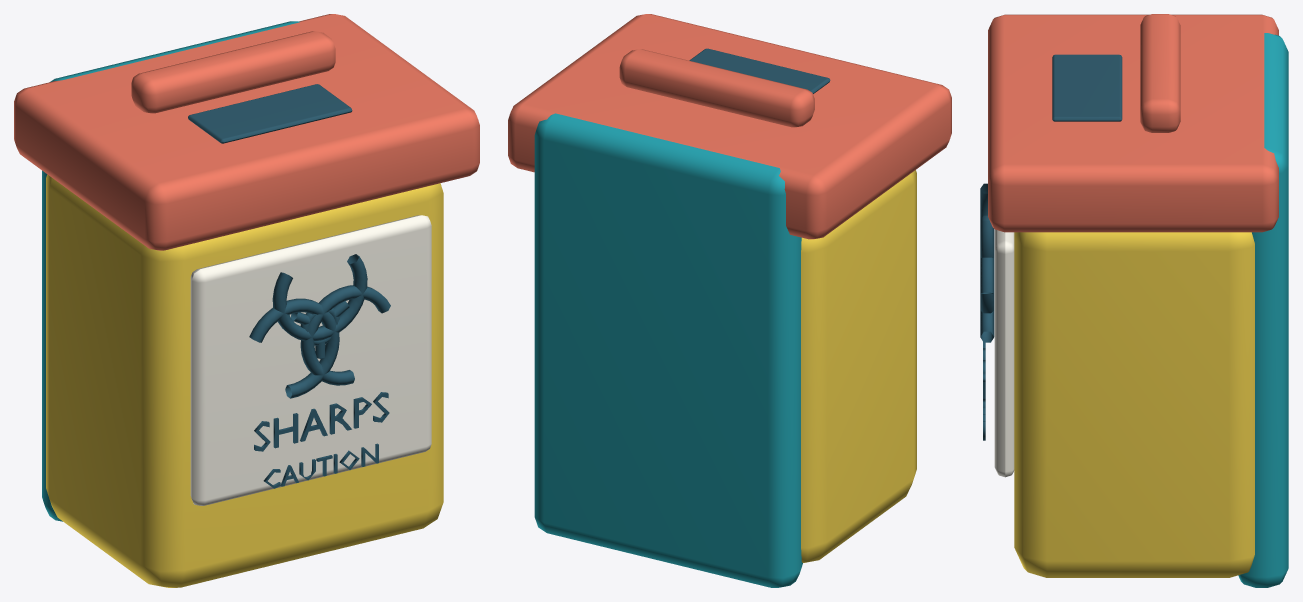
File: Clinical_Sharps_Container.glb
The picture shows the model from 3 angles, left to right: view 1: azimuth 30°, elevation 25°; view 2: azimuth 150°, elevation 25°; view 3: azimuth 270°, elevation 25°; orthographic projection. The views are drawn at different scales.
Parts seen in each view (by area): view 1: Clinical_Sharps_Container_clinical yellow, Clinical_Sharps_Container_coral, Clinical_Sharps_Container_paper, Clinical_Sharps_Container_navy, Clinical_Sharps_Container_teal; view 2: Clinical_Sharps_Container_teal, Clinical_Sharps_Container_coral, Clinical_Sharps_Container_clinical yellow, Clinical_Sharps_Container_navy; view 3: Clinical_Sharps_Container_clinical yellow, Clinical_Sharps_Container_coral, Clinical_Sharps_Container_teal, Clinical_Sharps_Container_navy, Clinical_Sharps_Container_paper.
Boxes of the visible parts, x1,y1,x2,y2 form: Clinical_Sharps_Container_clinical yellow: (46, 174, 443, 587); Clinical_Sharps_Container_coral: (14, 14, 479, 250); Clinical_Sharps_Container_paper: (190, 215, 431, 505); Clinical_Sharps_Container_navy: (188, 84, 390, 488); Clinical_Sharps_Container_teal: (42, 21, 299, 521); Clinical_Sharps_Container_teal: (534, 113, 802, 587); Clinical_Sharps_Container_coral: (508, 14, 951, 239); Clinical_Sharps_Container_clinical yellow: (801, 170, 916, 562); Clinical_Sharps_Container_navy: (689, 48, 830, 93); Clinical_Sharps_Container_clinical yellow: (1014, 232, 1254, 577); Clinical_Sharps_Container_coral: (988, 14, 1278, 232); Clinical_Sharps_Container_teal: (1238, 33, 1288, 587); Clinical_Sharps_Container_navy: (980, 54, 1122, 440); Clinical_Sharps_Container_paper: (994, 229, 1014, 477).
Size of the model in its own units: 0.258 by 0.35 by 0.2067.
